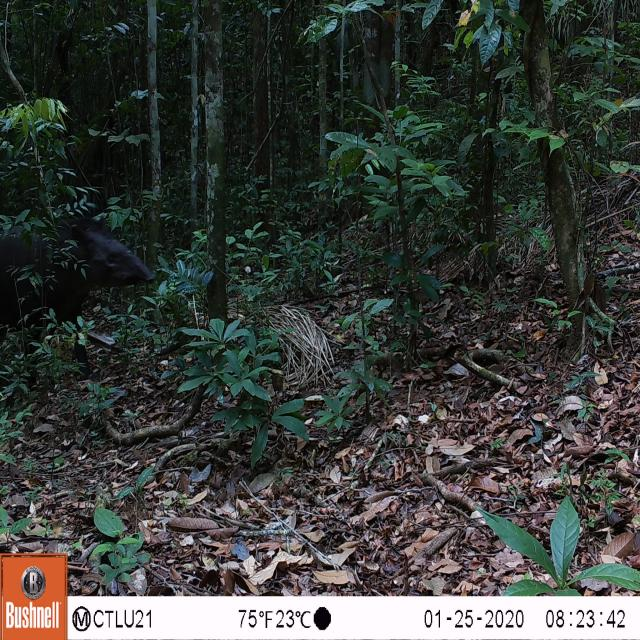Lowland Tapir: (0, 216, 156, 369)
